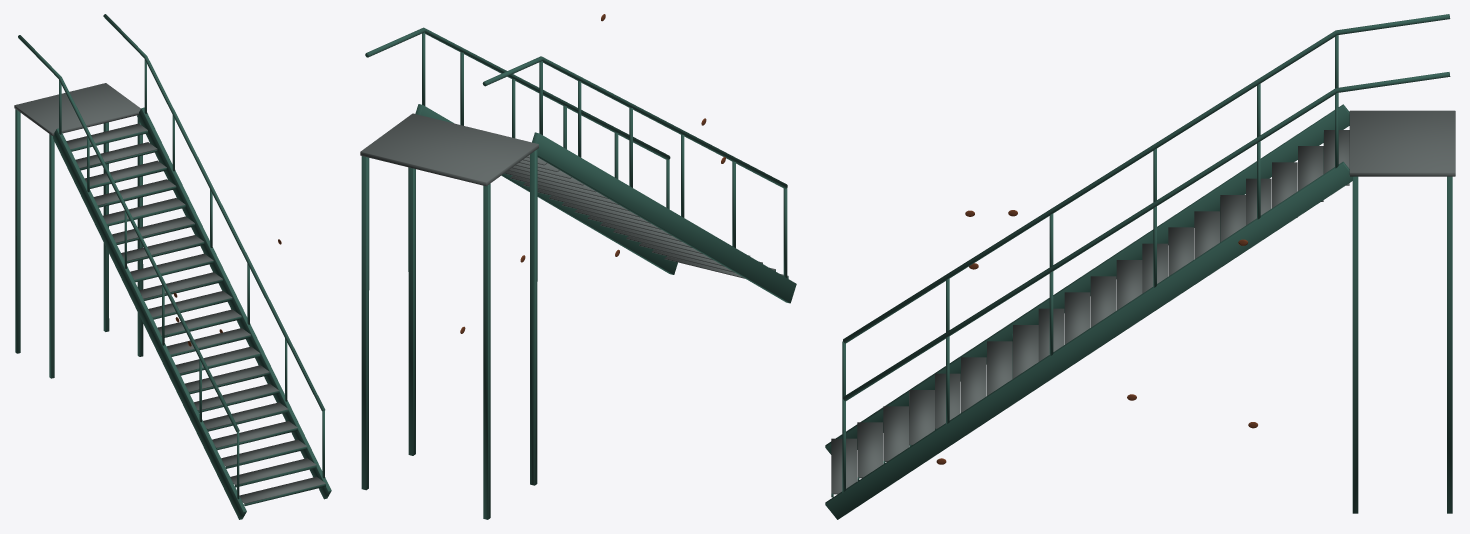
Rendered from cau_thang_320_440_110.glb.
3 views of the same model, side by side, from view 1: azimuth 30°, elevation 25°; view 2: azimuth 150°, elevation 25°; view 3: azimuth 270°, elevation 25° (orthographic). The views are drawn at different scales.
Visible parts, largest first — view 1: cau_thang_320_440_110; view 2: cau_thang_320_440_110; view 3: cau_thang_320_440_110.
Part boxes in pixels (bbox=[...]): cau_thang_320_440_110: bbox=[14, 14, 331, 519]; cau_thang_320_440_110: bbox=[360, 14, 796, 519]; cau_thang_320_440_110: bbox=[825, 14, 1455, 519].
Bounding box in the file's own units: 1.25 × 4.19 × 5.35.
